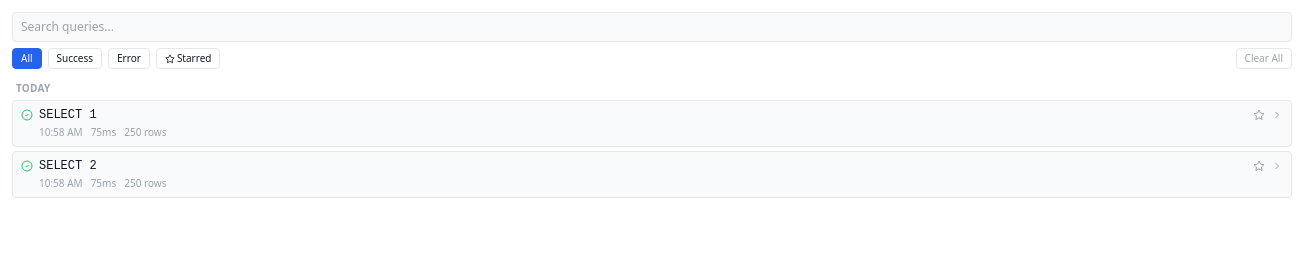
Test: QHP-9: Expand/collapse entries independently › only one entry is expanded at a time
Expand first
Click the button with test id "query-history-entry-toggle" that starts with "SELECT 1".
click(68, 115)  # box [13, 101, 1291, 146]
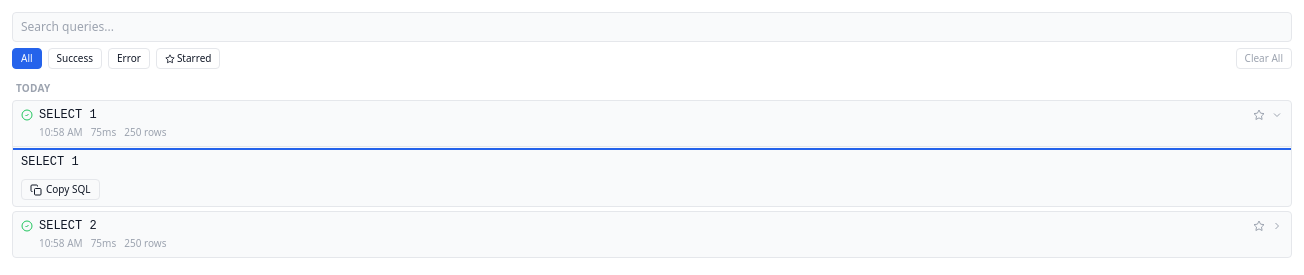
Check: the number of elements with test id "query-history-entry-expanded" is 1, box [13, 146, 1291, 206]
Expand second - first should collapse (only one expandedId at a time)
Click the button with test id "query-history-entry-toggle" that starts with "SELECT 2".
click(68, 226)  # box [13, 212, 1291, 257]
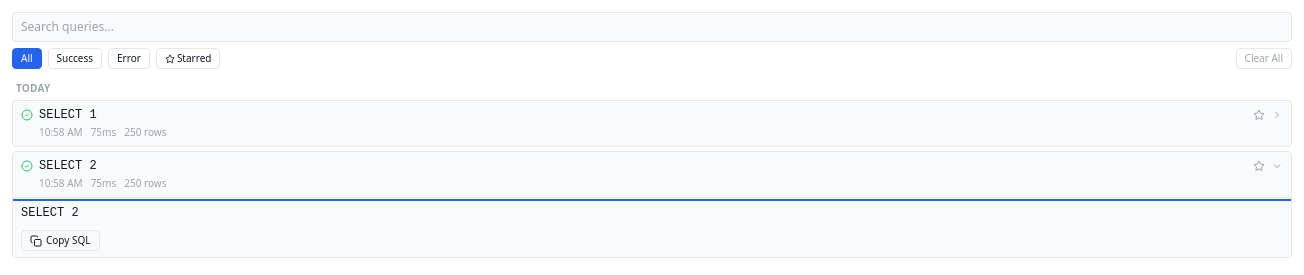
Check: the number of elements with test id "query-history-entry-expanded" is 1, box [13, 197, 1291, 257]
Check: the text with test id "query-history-entry-full-sql" reads "SELECT 2", box [21, 206, 79, 220]
